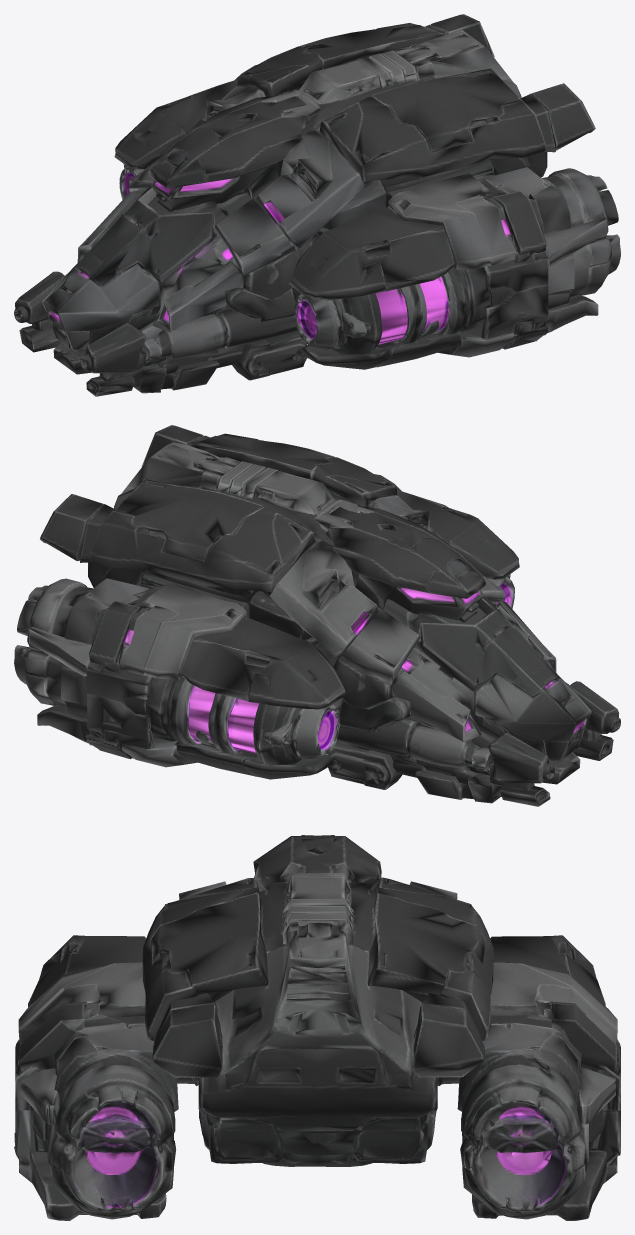
The model's file is foundry_dreadnought_hull.glb.
3 renders of one model, top to bottom at view 1: azimuth 30°, elevation 25°; view 2: azimuth 150°, elevation 25°; view 3: azimuth 270°, elevation 25°, orthographic. The views are drawn at different scales.
Visible parts, largest first — view 1: foundry_dreadnought_hull; view 2: foundry_dreadnought_hull; view 3: foundry_dreadnought_hull.
Boxes of the visible parts, x1,y1,x2,y2 form: foundry_dreadnought_hull: (14, 14, 620, 396); foundry_dreadnought_hull: (14, 425, 620, 806); foundry_dreadnought_hull: (14, 835, 620, 1220).
Bounding box in the file's own units: 2.35 × 1.14 × 2.05.
Materials: 1 (1 with a texture image).
